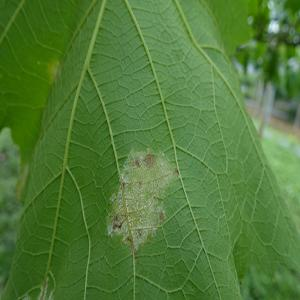Folha: (1, 0, 298, 299)
Fungo: (105, 148, 179, 255)
